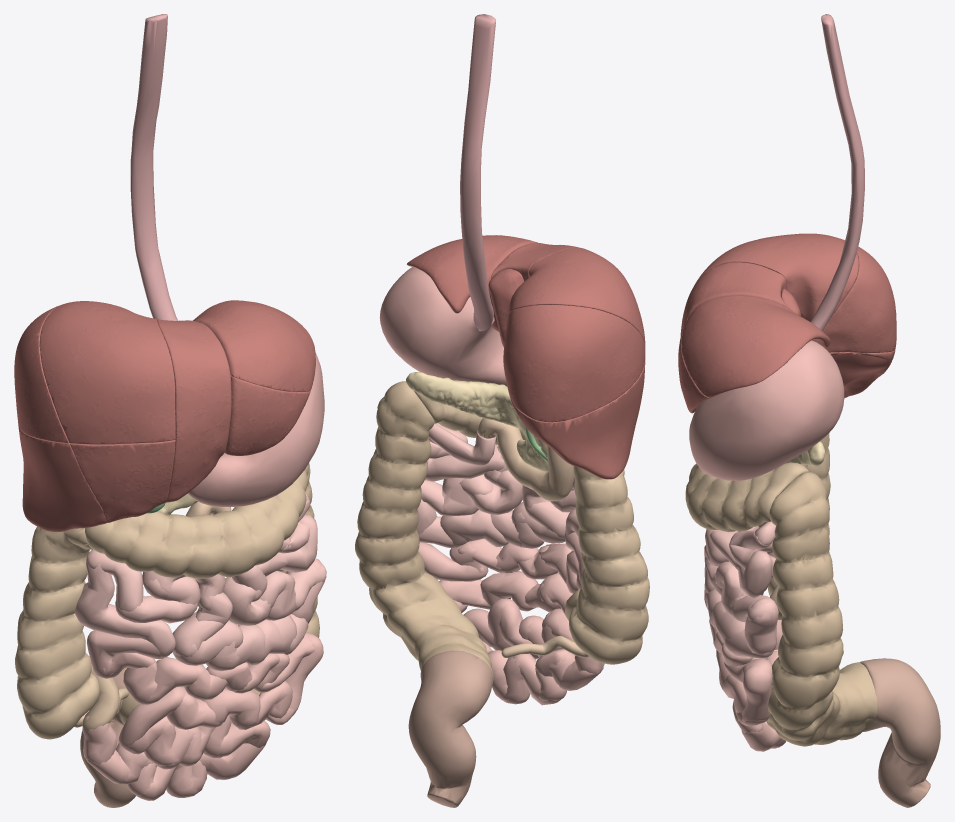
File: digestive.glb
The picture shows the model from 3 angles, left to right: view 1: azimuth 30°, elevation 25°; view 2: azimuth 150°, elevation 25°; view 3: azimuth 270°, elevation 25°; orthographic projection. The views are drawn at different scales.
Visible parts, largest first — view 1: Digestive_Liver, Digestive_Ileum, Digestive_Jejunum, Digestive_AscendingColon, Digestive_TransverseColon, Digestive_Esophagus, Digestive_Stomach, Digestive_Rectum, Digestive_Cecum, Digestive_DescendingColon; view 2: Digestive_Liver, Digestive_DescendingColon, Digestive_Ileum, Digestive_Jejunum, Digestive_AscendingColon, Digestive_Stomach, Digestive_Rectum, Digestive_Esophagus, Digestive_Pancreas, Digestive_Duodenum, Digestive_TransverseColon, Digestive_Appendix; view 3: Digestive_Liver, Digestive_DescendingColon, Digestive_Stomach, Digestive_Jejunum, Digestive_Rectum, Digestive_TransverseColon, Digestive_Ileum, Digestive_Esophagus, Digestive_AscendingColon, Digestive_Pancreas.
Boxes of the visible parts, x1=… form: Digestive_Liver: x1=14, y1=300, x2=315, y2=531; Digestive_Ileum: x1=82, y1=630, x2=323, y2=800; Digestive_Jejunum: x1=74, y1=493, x2=326, y2=671; Digestive_AscendingColon: x1=15, y1=526, x2=99, y2=739; Digestive_TransverseColon: x1=85, y1=464, x2=308, y2=578; Digestive_Esophagus: x1=130, y1=14, x2=177, y2=320; Digestive_Stomach: x1=188, y1=353, x2=324, y2=506; Digestive_Rectum: x1=80, y1=667, x2=135, y2=807; Digestive_Cecum: x1=82, y1=656, x2=119, y2=730; Digestive_DescendingColon: x1=119, y1=463, x2=319, y2=724; Digestive_Liver: x1=407, y1=235, x2=645, y2=479; Digestive_DescendingColon: x1=355, y1=381, x2=493, y2=685; Digestive_Ileum: x1=418, y1=530, x2=604, y2=705; Digestive_Jejunum: x1=416, y1=423, x2=578, y2=548; Digestive_AscendingColon: x1=569, y1=466, x2=649, y2=664; Digestive_Stomach: x1=379, y1=266, x2=507, y2=386; Digestive_Rectum: x1=408, y1=650, x2=492, y2=807; Digestive_Esophagus: x1=460, y1=14, x2=495, y2=331; Digestive_Pancreas: x1=406, y1=372, x2=548, y2=471; Digestive_Duodenum: x1=477, y1=418, x2=574, y2=501; Digestive_TransverseColon: x1=414, y1=391, x2=525, y2=444; Digestive_Appendix: x1=501, y1=635, x2=589, y2=657; Digestive_Liver: x1=678, y1=233, x2=896, y2=413; Digestive_DescendingColon: x1=766, y1=472, x2=877, y2=746; Digestive_Stomach: x1=689, y1=340, x2=844, y2=480; Digestive_Jejunum: x1=704, y1=521, x2=778, y2=658; Digestive_Rectum: x1=860, y1=658, x2=940, y2=807; Digestive_TransverseColon: x1=685, y1=462, x2=808, y2=532; Digestive_Ileum: x1=709, y1=542, x2=785, y2=751; Digestive_Esophagus: x1=810, y1=14, x2=864, y2=330; Digestive_AscendingColon: x1=767, y1=433, x2=830, y2=595; Digestive_Pancreas: x1=785, y1=441, x2=825, y2=465.
Bounding box in the file's own units: 0.2443 × 0.6331 × 0.1911.
